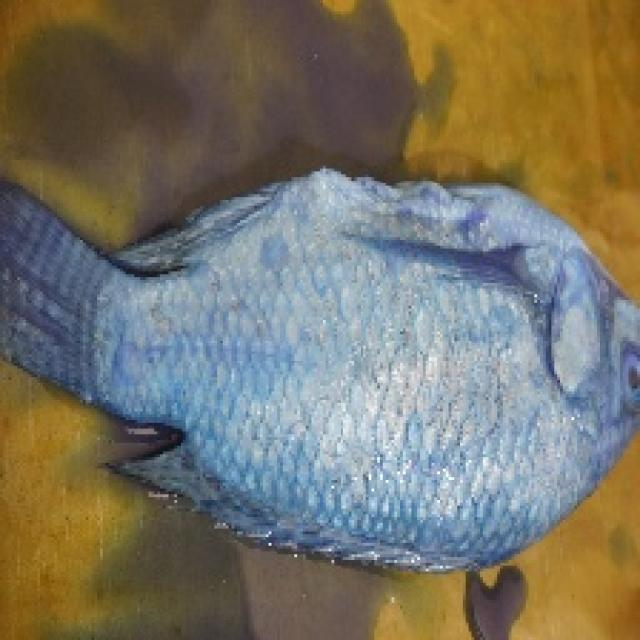Non-Fresh: (40, 146, 640, 583)
